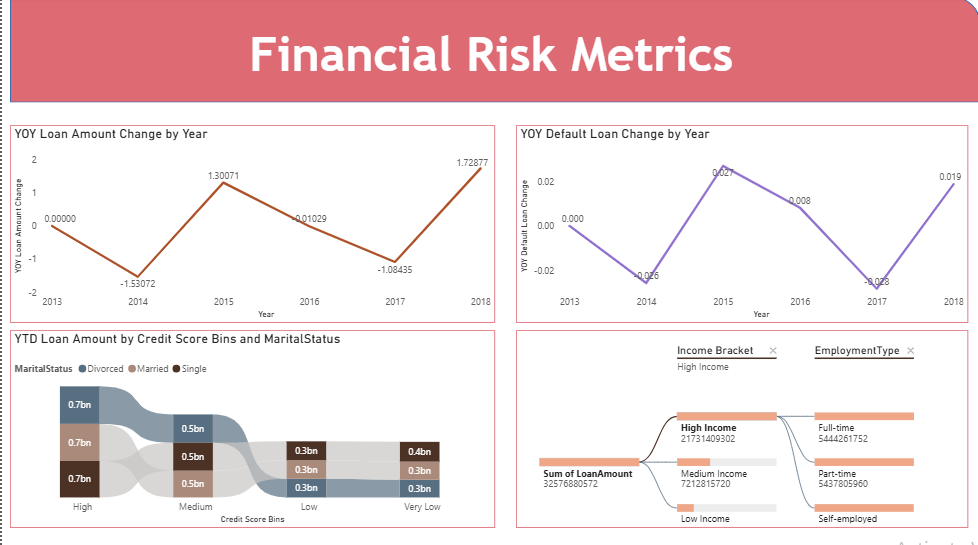

Layout of this report page (visuals, bound fields, positions):
{"tool":"powerbi","page":{"name":"Financial Risk Metrics","canvas":[1280,720],"ordinal":2},"visuals":[{"type":"shape","box":[10.1,0,1270.1,138.2],"z":0},{"type":"lineChart","fields":{"Category":["Loan_default.Year"],"Y":["Measures Table3.YOY Loan Amount Change"]},"box":[10.1,167,635,259.2],"z":1000},{"type":"lineChart","fields":{"Category":["Loan_default.Year"],"Y":["Measures Table3.YOY Default Loan Change"]},"box":[672.5,167,591.8,259.2],"z":2000},{"type":"ribbonChart","fields":{"Series":["Loan_default.MaritalStatus"],"Category":["Loan_default.Credit Score Bins"],"Y":["Measures Table3.YTD Loan Amount"]},"box":[10.1,436.3,635,259.2],"z":3000},{"type":"decompositionTreeVisual","fields":{"Analyze":["Sum(Loan_default.LoanAmount)"],"ExplainBy":["Loan_default.Income Bracket","Loan_default.EmploymentType"]},"box":[672.5,436.3,591.8,259.2],"z":4000}]}

Visuals, with their boxes in screenshot pixels (x1, y1, x2, y2), scaled from the page's 1280x720 canvas onto the 978x545 screenshot:
shape: (8,0,977,105)
lineChart - Loan_default.Year x Measures Table3.YOY Loan Amount Change: (8,126,493,323)
lineChart - Loan_default.Year x Measures Table3.YOY Default Loan Change: (514,126,966,323)
ribbonChart - Loan_default.MaritalStatus x Loan_default.Credit Score Bins: (8,330,493,526)
decompositionTreeVisual - Sum(Loan_default.LoanAmount) x Loan_default.Income Bracket: (514,330,966,526)
